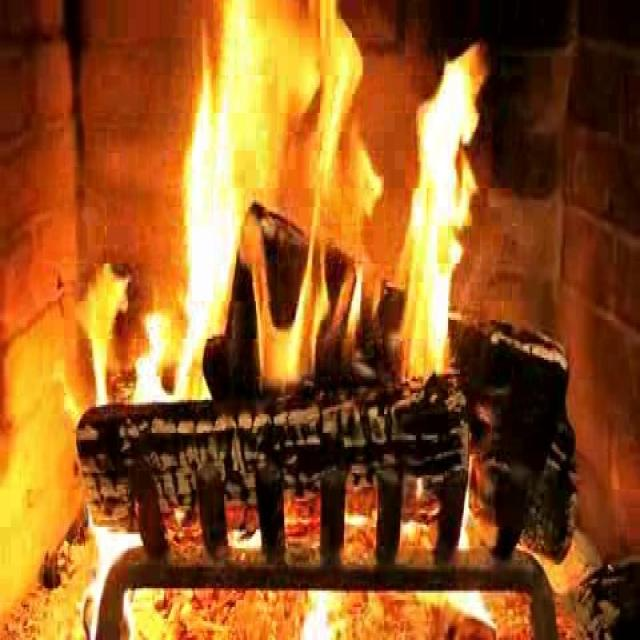fire: (176, 11, 463, 408)
